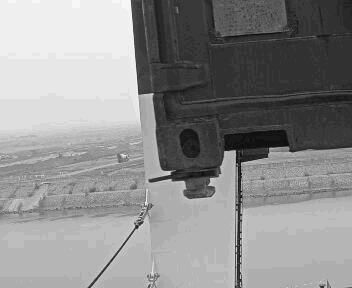twist_lock_1: (145, 165, 202, 206)
